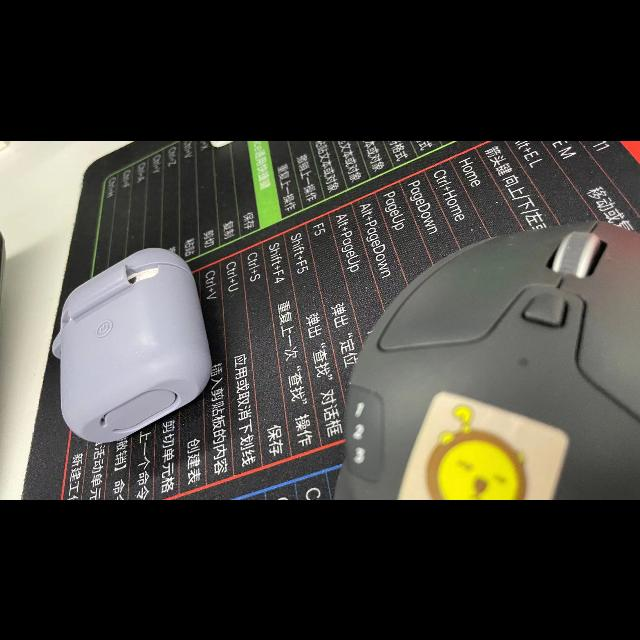airpods: (52, 246, 212, 443)
